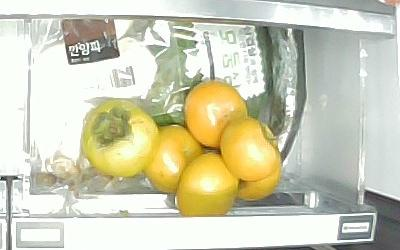persimmon: (83, 100, 160, 176), (185, 80, 248, 148), (146, 124, 202, 194), (219, 118, 281, 180), (178, 152, 238, 215), (235, 157, 282, 202)
